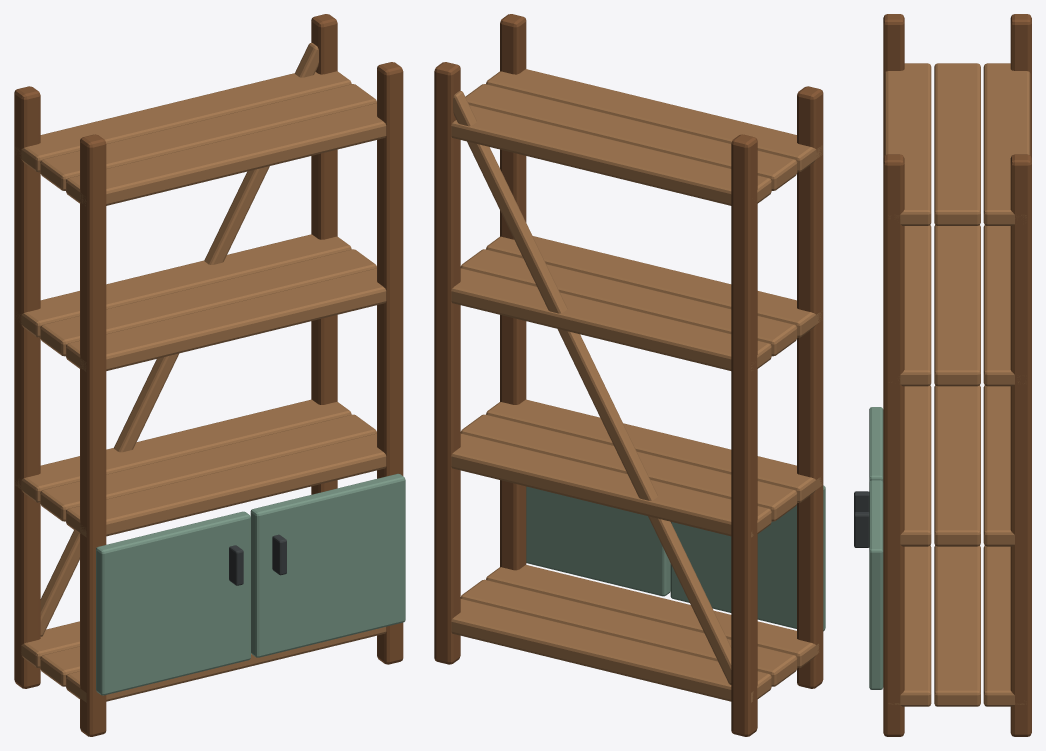
File: pantry.glb
The picture shows the model from 3 angles, left to right: view 1: azimuth 30°, elevation 25°; view 2: azimuth 150°, elevation 25°; view 3: azimuth 270°, elevation 25°; orthographic projection. The views are drawn at different scales.
Visible parts, largest first — view 1: lower_door.001, lower_door, post.001, post, post.002, shelf_20, shelf_10, shelf_30, shelf_11, shelf_21, shelf_31, shelf_32 (+7 smaller); view 2: post.001, post.003, post, lower_door.001, back_brace, shelf_02, shelf_32, shelf_12, shelf_22, lower_door, shelf_30, shelf_31 (+7 smaller); view 3: post.002, post.003, shelf_31, shelf_11, shelf_21, shelf_01, shelf_32, shelf_30, shelf_02, shelf_00, shelf_20, shelf_22 (+8 smaller).
Boxes of the visible parts, x1,y1,x2,y2 form: lower_door.001: (250,473,405,657); lower_door: (96,511,250,695); post.001: (14,86,40,688); post: (80,134,106,736); post.002: (377,62,403,664); shelf_20: (66,268,386,371); shelf_10: (66,433,386,537); shelf_30: (66,103,386,206); shelf_11: (40,414,376,521); shelf_21: (40,249,376,356); shelf_31: (40,84,376,190); shelf_32: (15,71,351,172); post.001: (731,134,757,736); post.003: (434,62,460,664); post: (797,86,823,688); lower_door.001: (526,486,670,596); back_brace: (453,91,731,684); shelf_02: (451,599,771,702); shelf_32: (451,105,771,205); shelf_12: (451,433,771,537); shelf_22: (451,268,771,370); lower_door: (670,485,825,631); shelf_30: (486,69,822,172); shelf_31: (465,84,797,190); post.002: (883,154,904,736); post.003: (1010,154,1031,736); shelf_31: (934,63,980,225); shelf_11: (934,385,980,546); shelf_21: (934,225,980,386); shelf_01: (934,545,980,706); shelf_32: (983,63,1030,225); shelf_30: (884,63,931,225); shelf_02: (983,545,1026,706); shelf_00: (888,545,931,706); shelf_20: (889,225,931,386); shelf_22: (983,225,1024,386).
Bounding box in the file's own units: 1 × 1.8 × 0.5025.
